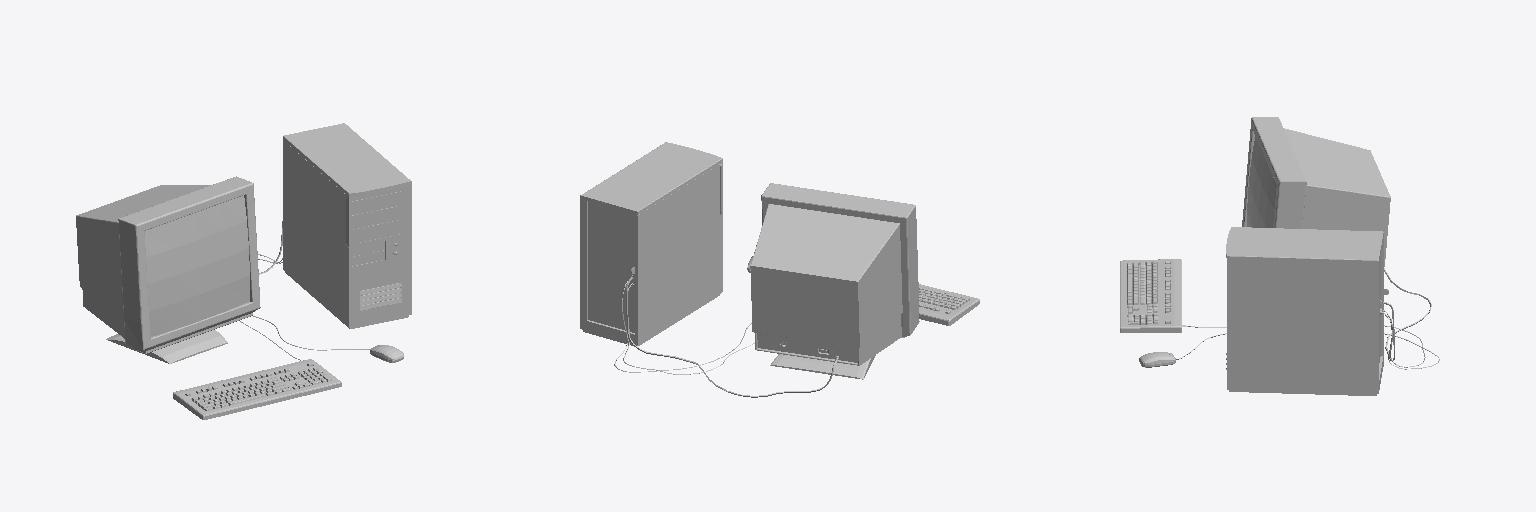
The model's file is desktop.obj.
3 views of the same model, side by side, from view 1: azimuth 30°, elevation 25°; view 2: azimuth 150°, elevation 25°; view 3: azimuth 270°, elevation 25° (orthographic).
Visible parts, largest first — view 1: retro_computer_setup_retro_computer_setup_Mat_0; view 2: retro_computer_setup_retro_computer_setup_Mat_0; view 3: retro_computer_setup_retro_computer_setup_Mat_0.
Part boxes in pixels (left/top/right/bottom): retro_computer_setup_retro_computer_setup_Mat_0: left=76, top=123, right=411, bottom=419; retro_computer_setup_retro_computer_setup_Mat_0: left=580, top=142, right=979, bottom=397; retro_computer_setup_retro_computer_setup_Mat_0: left=1120, top=117, right=1439, bottom=395.
Bounding box in the file's own units: 96.81 × 49.28 × 96.94.